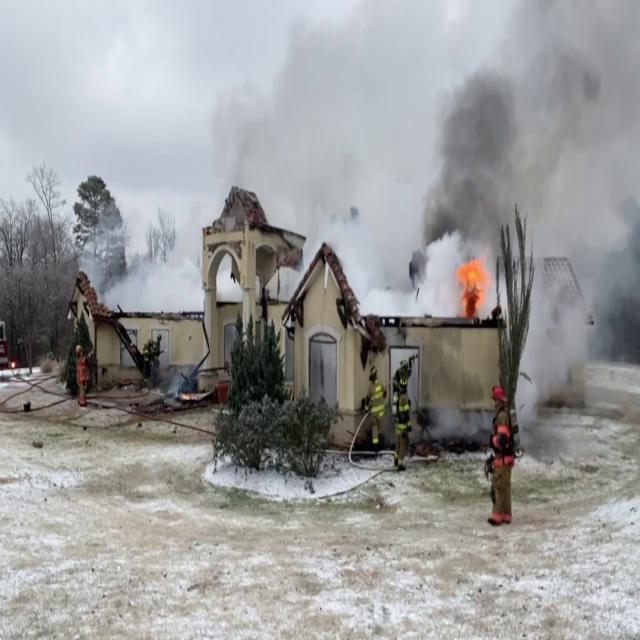Fire: (452, 251, 493, 318)
Smoke: (408, 0, 640, 355), (108, 208, 198, 314)
